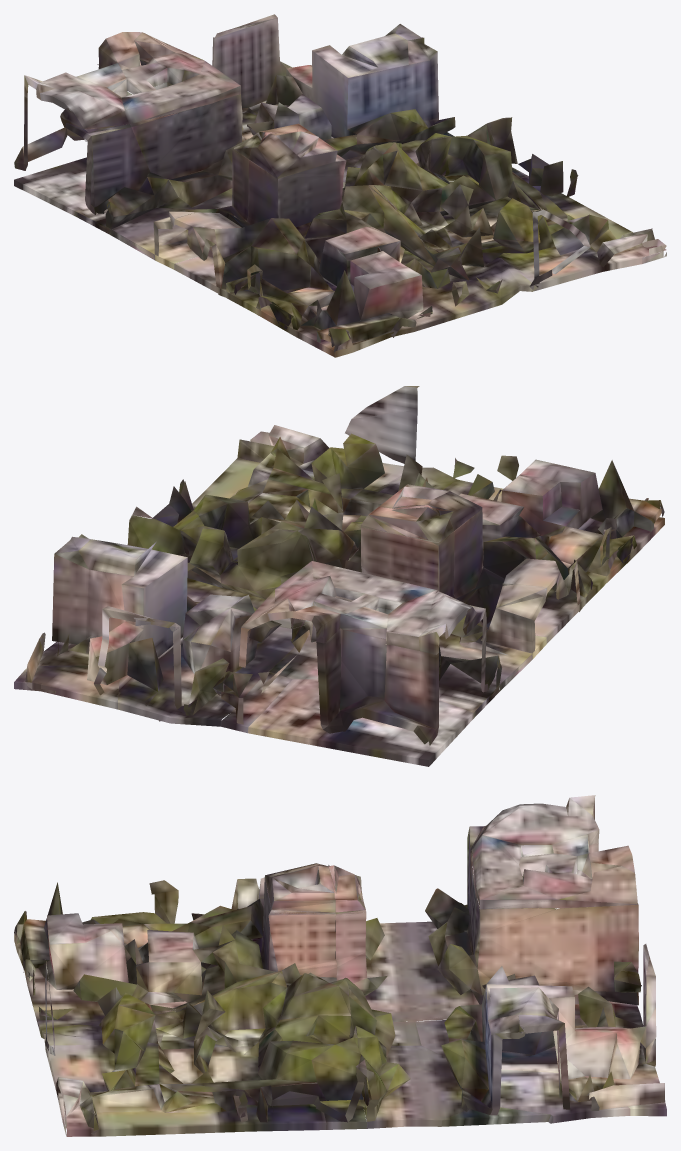
3 views of the same model, one above another, from view 1: azimuth 30°, elevation 25°; view 2: azimuth 150°, elevation 25°; view 3: azimuth 270°, elevation 25° (orthographic). The views are drawn at different scales.
Parts seen in each view (by area): view 1: Mesh_0; view 2: Mesh_0; view 3: Mesh_0.
Boxes of the visible parts, <box> form: Mesh_0: <box>14,14,666,357</box>; Mesh_0: <box>14,386,664,766</box>; Mesh_0: <box>14,795,666,1136</box>.
Bounding box in the file's own units: 133 × 40.16 × 165.
1 material, 1 textured.
